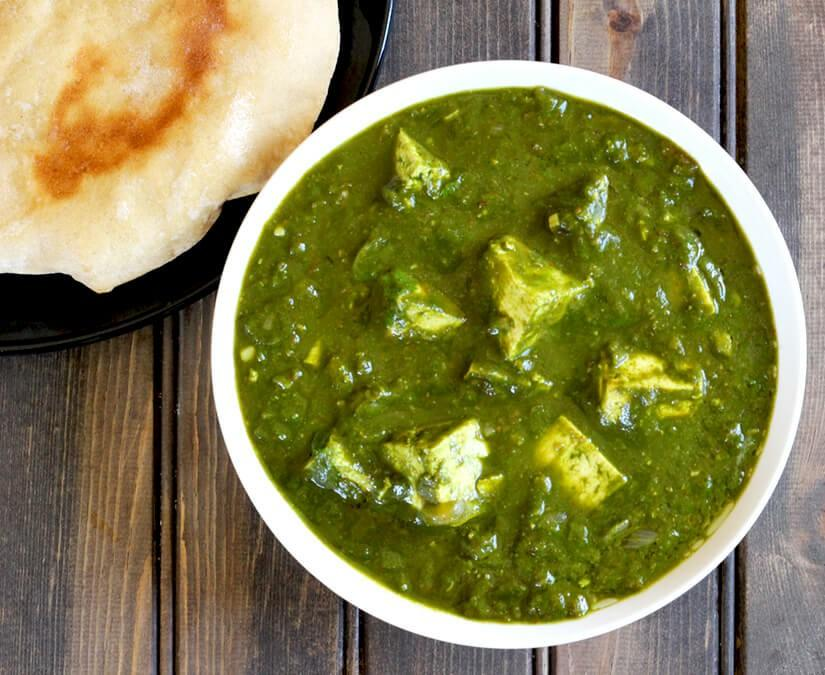PalakPaneer: (229, 83, 782, 622)
